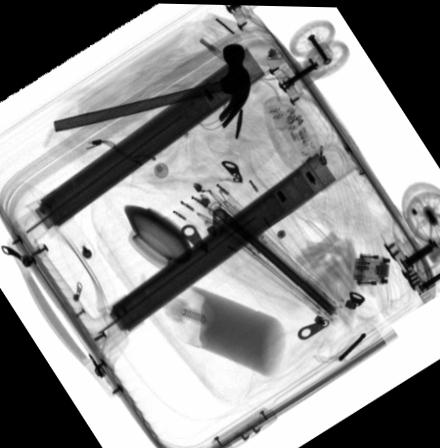Hammer: (52, 39, 249, 130)
